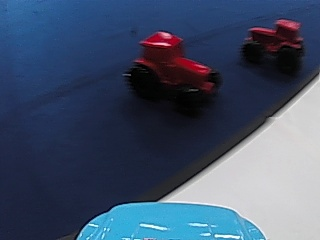tractor: (126, 29, 223, 102), (243, 16, 306, 74)
